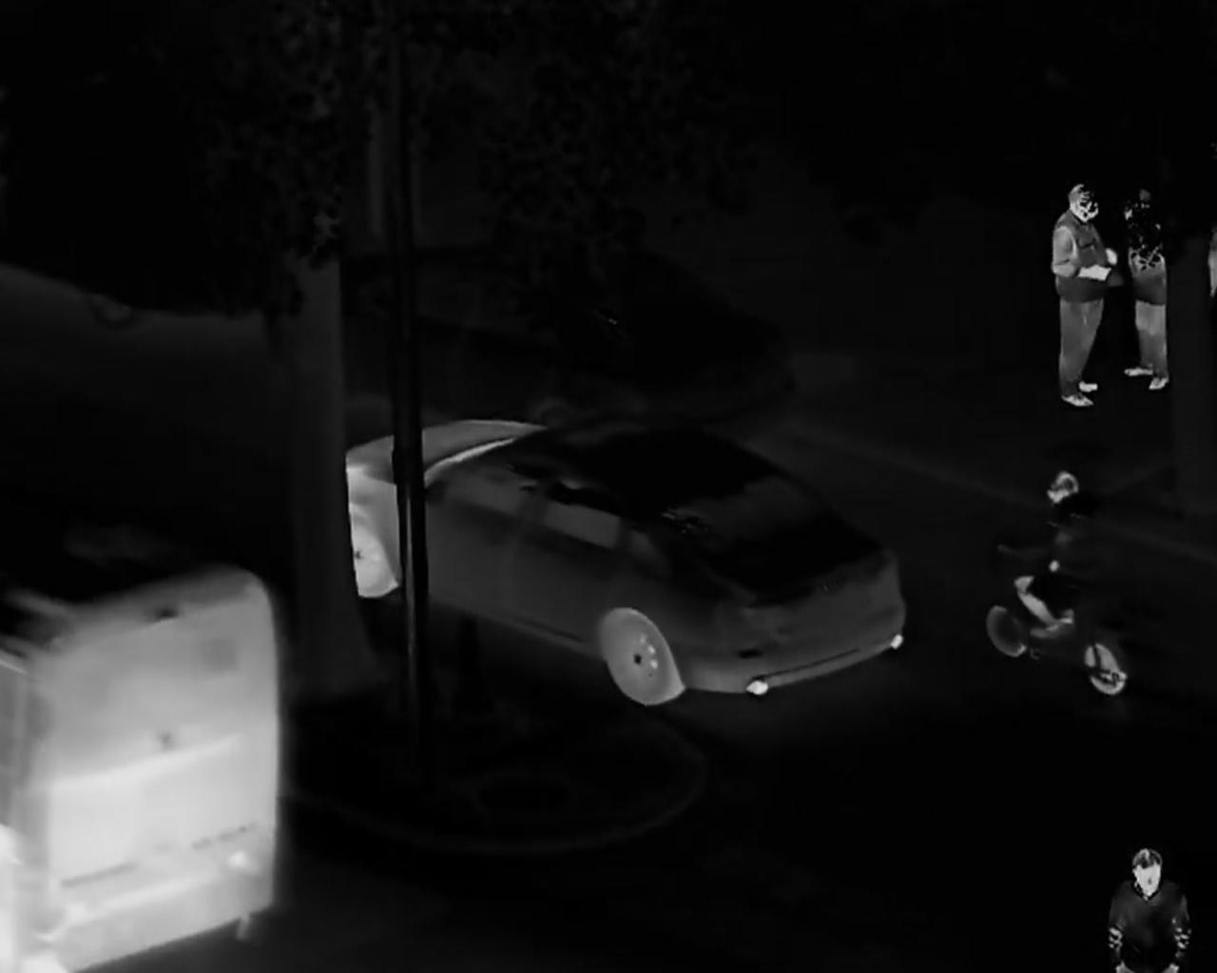person: (995, 468, 1101, 642), (1046, 183, 1113, 408), (1116, 187, 1179, 392), (1097, 845, 1195, 973)
